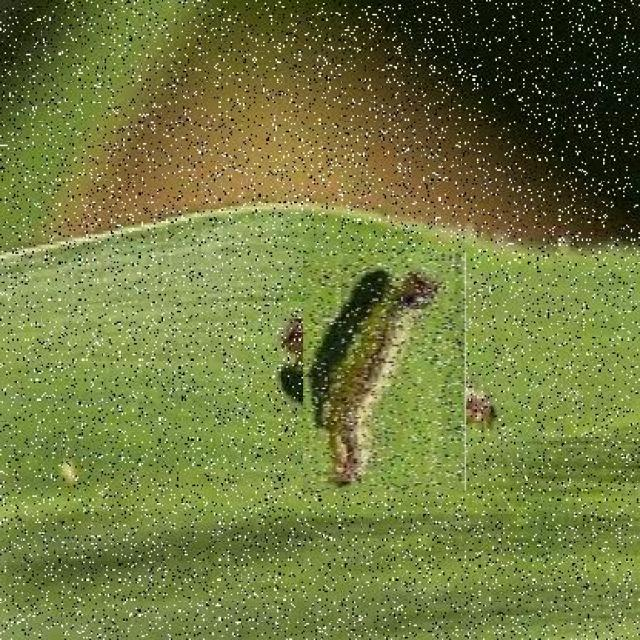Plaga: (283, 272, 486, 476)
